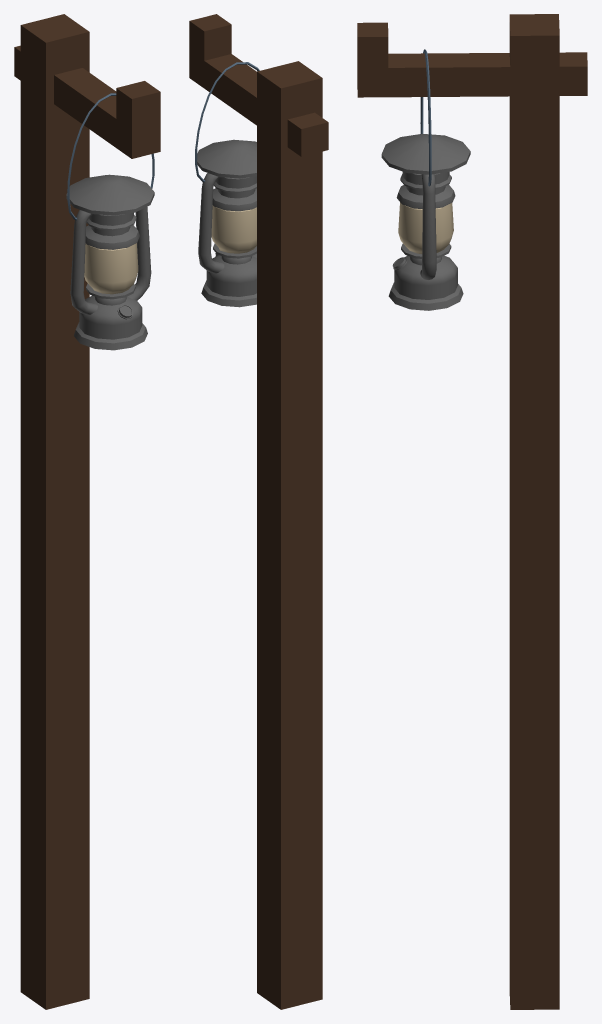
File: LamppostTest.fbx
3 renders of one model, left to right at view 1: azimuth 30°, elevation 25°; view 2: azimuth 210°, elevation 25°; view 3: azimuth 270°, elevation 25°, orthographic. The views are drawn at different scales.
Visible parts, largest first — view 1: LampPost, Lamp; view 2: LampPost, Lamp; view 3: LampPost, Lamp.
Part boxes in pixels (x1,y1,x2,y2): LampPost: [14, 14, 160, 1009]; Lamp: [66, 93, 154, 350]; LampPost: [189, 14, 328, 1009]; Lamp: [195, 62, 259, 307]; LampPost: [357, 14, 587, 1009]; Lamp: [381, 49, 470, 310].
Size of the model in its own units: 38.67 by 390 by 83.58.
